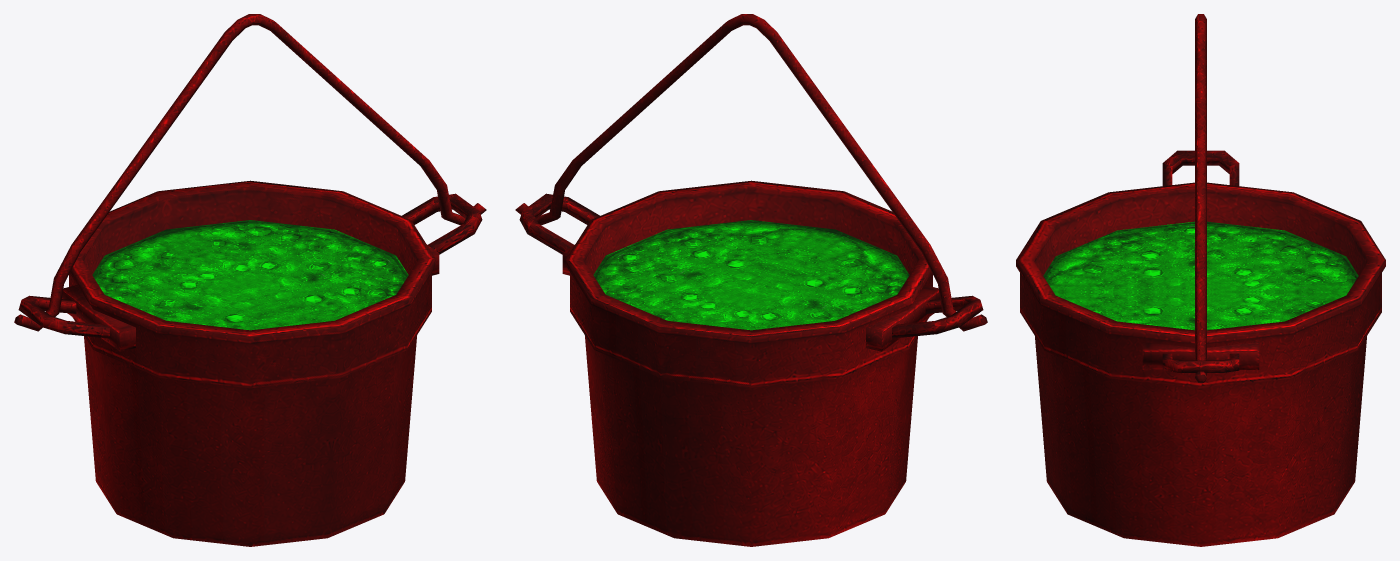
The model's file is CookingPot02.fbx.
The picture shows the model from 3 angles, left to right: view 1: azimuth 30°, elevation 25°; view 2: azimuth 150°, elevation 25°; view 3: azimuth 270°, elevation 25°; orthographic projection.
Visible parts, largest first — view 1: CookingPot02_LOD0, Contents02_LOD0, Handle02_LOD0; view 2: CookingPot02_LOD0, Contents02_LOD0, Handle02_LOD0; view 3: CookingPot02_LOD0, Contents02_LOD0, Handle02_LOD0.
Part boxes in pixels (bbox=[...]): CookingPot02_LOD0: bbox=[18, 180, 482, 546]; Contents02_LOD0: bbox=[92, 220, 408, 330]; Handle02_LOD0: bbox=[14, 14, 486, 331]; CookingPot02_LOD0: bbox=[519, 180, 983, 546]; Contents02_LOD0: bbox=[593, 220, 909, 330]; Handle02_LOD0: bbox=[515, 14, 987, 331]; CookingPot02_LOD0: bbox=[1016, 150, 1385, 546]; Contents02_LOD0: bbox=[1043, 221, 1358, 330]; Handle02_LOD0: bbox=[1195, 14, 1206, 382].
Size of what is drawn, in the model's own units: 0.4597 by 0.4363 by 0.3145.
